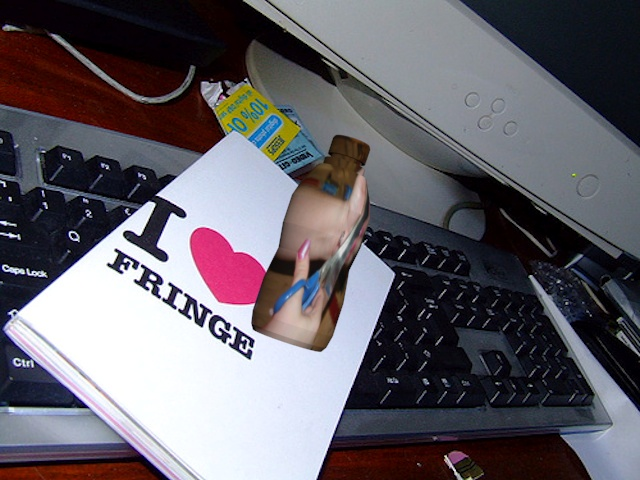bottle: (241, 128, 384, 359)
